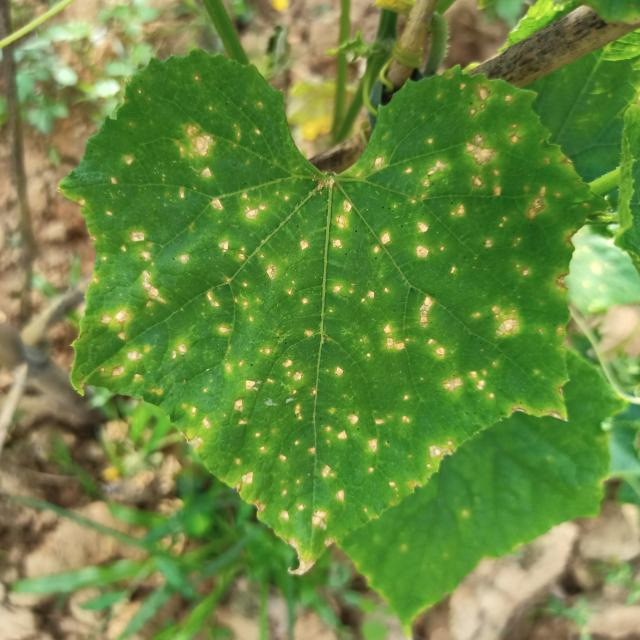disease_cucumber: (100, 287, 523, 529), (72, 76, 340, 350), (335, 82, 575, 352)
